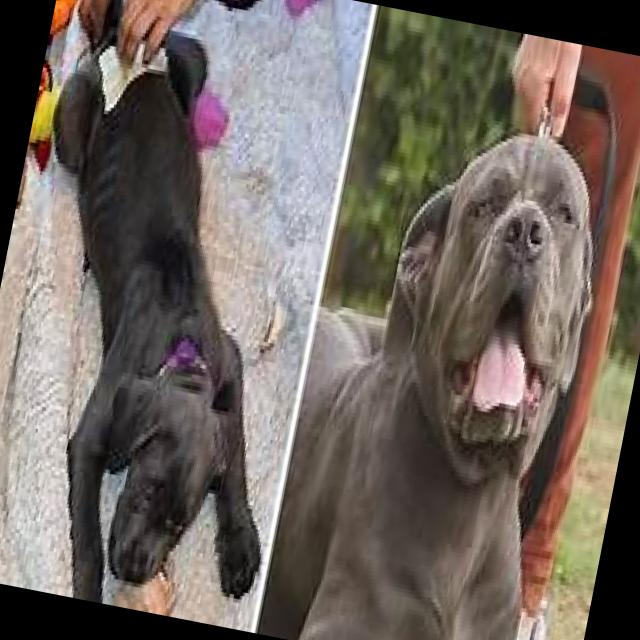dog: (0, 0, 366, 628), (256, 94, 623, 640)
